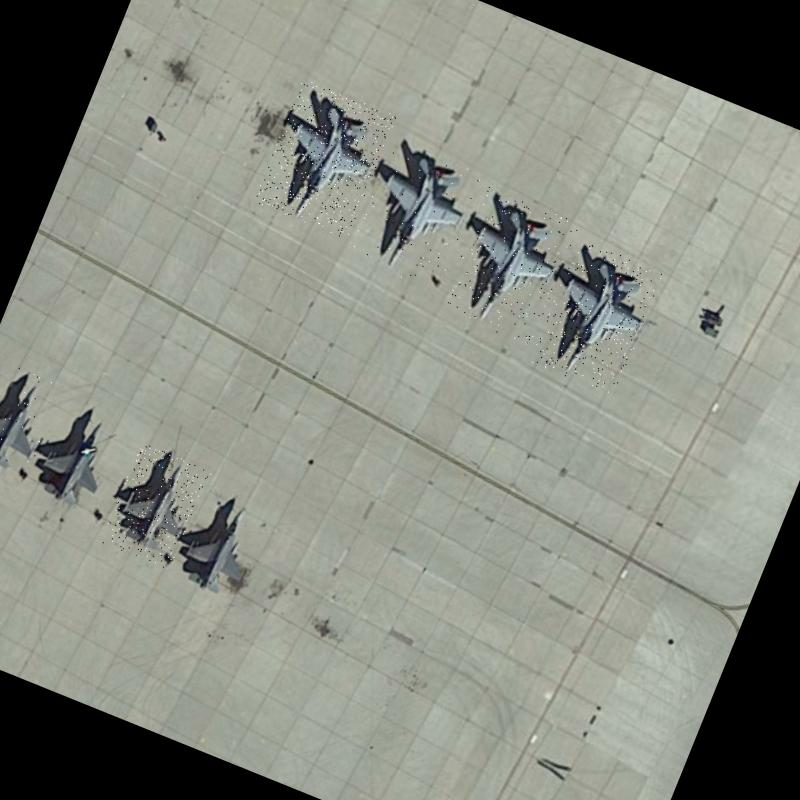A16: (253, 78, 396, 239), (439, 187, 579, 346), (348, 134, 486, 292), (529, 238, 664, 396)
A5: (100, 442, 213, 571), (165, 480, 278, 609), (25, 400, 129, 518), (0, 356, 63, 484)
